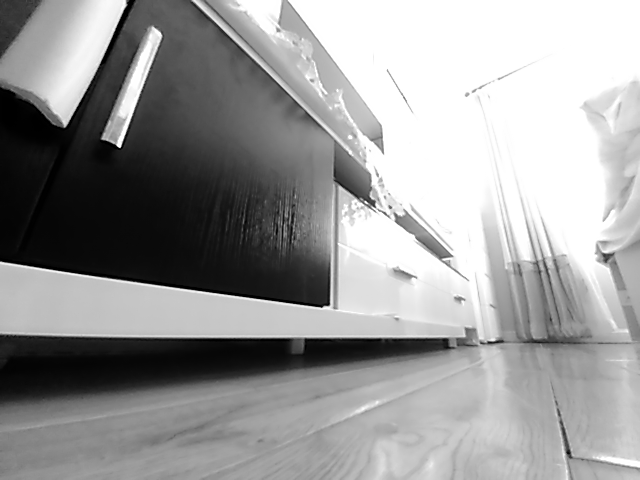curtain: (464, 67, 593, 343)
